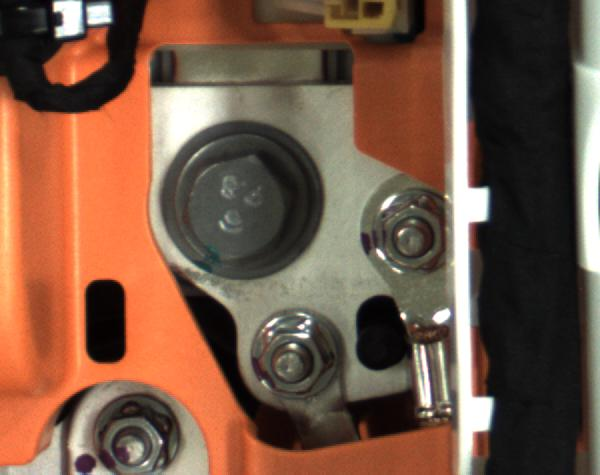nut_b: (167, 139, 321, 277)
screw_s: (241, 306, 334, 401), (89, 407, 188, 475), (372, 187, 449, 274)
